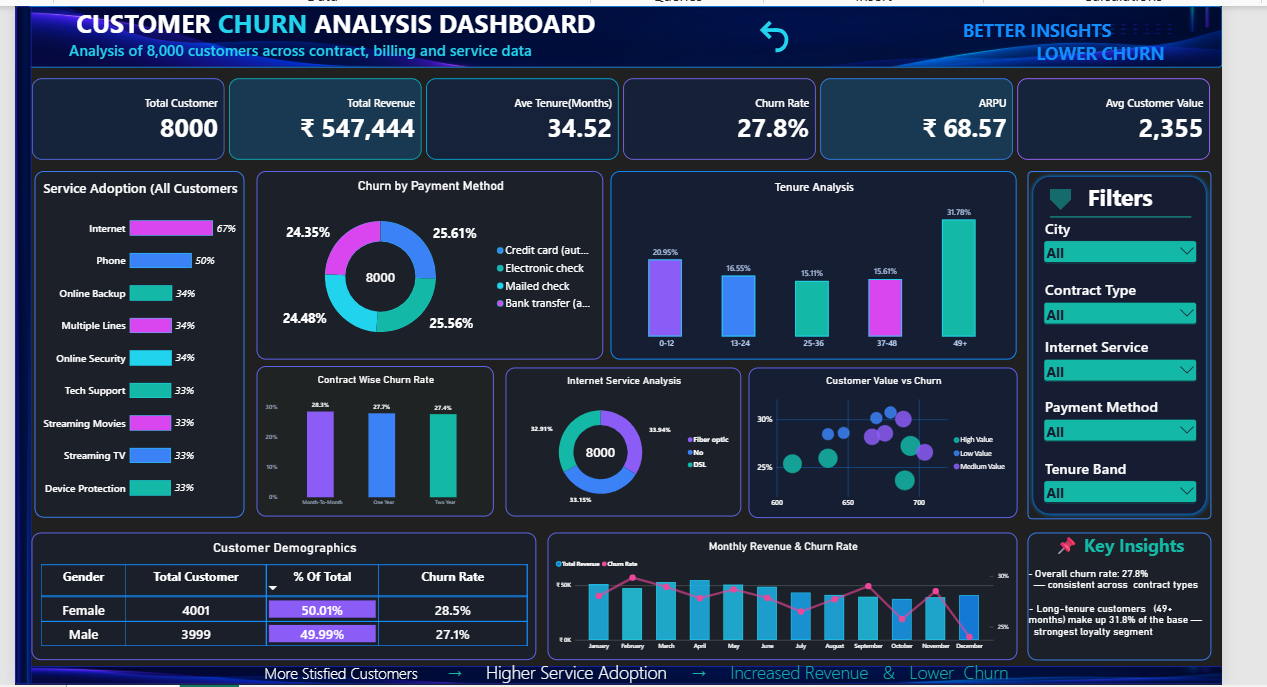

Layout of this report page (visuals, bound fields, positions):
{"tool":"powerbi","page":{"name":"Page 1","canvas":[2560,1440],"ordinal":0},"visuals":[{"type":"image","box":[0,0,2560.9,130.4],"z":0},{"type":"image","box":[0,1400,2561.3,38.7],"z":1000},{"type":"textbox","box":[114.5,0,1250.2,131.2],"z":2000},{"type":"cardVisual","fields":{"Data":["Measures (2).Total Customer","Measures (2).Total Revenue","Measures (2).Ave Tenure","Measures (2).Churn Rate","Measures (2).ARPU","Measures (2).Avg Customer Value"]},"box":[35.5,151.6,2503.2,174.2],"z":3000},{"type":"clusteredColumnChart","title":"Contract Wise Churn Rate","fields":{"Category":["Billing.Contract"],"Y":["Measures (2).Churn Rate"]},"box":[512.9,764.5,503,319.4],"z":4000},{"type":"donutChart","title":"Internet Service Analysis","fields":{"Category":["Service.InternetService"],"Y":["CountNonNull(Service.CustomerID)"]},"box":[1038.7,767.7,500,316.1],"z":5000},{"type":"lineClusteredColumnComboChart","title":"Monthly Revenue & Churn Rate","fields":{"Y":["Measures (2).Total Revenue"],"Y2":["Measures (2).Churn Rate"],"Category":["Demographics.SignupDate.Variation.Date Hierarchy.Month"]},"box":[1129,1116.1,996.8,271],"z":6000},{"type":"donutChart","title":"Churn by Payment Method","fields":{"Y":["CountNonNull(Billing.CustomerID)"],"Category":["Billing.PaymentMethod"]},"box":[512.9,348.4,735.5,400],"z":8000},{"type":"scatterChart","title":"Customer Value vs Churn","fields":{"Y":["Measures (2).Churn Rate"],"Series":["Billing.Customer Segment"],"X":["Measures (2).Total Customer"],"Size":["Measures (2).Total Revenue"],"Category":["Billing.PaymentMethod"]},"box":[1554.8,767.7,571,319.4],"z":9000},{"type":"image","box":[0,0,35.5,1438.7],"z":10000},{"type":"tableEx","title":"Customer Demographics ","fields":{"Values":["Demographics.Gender","Measures (2).Total Customer","Billing.CustomerID","Measures (2).Churn Rate"]},"box":[35.5,1116.1,1071,271],"z":11000},{"type":"clusteredColumnChart","title":"Tenure Analysis","fields":{"Category":["Billing.Tenure Band"],"Y":["Billing.% of Customers"]},"box":[1264.5,348.4,861,400],"z":12000},{"type":"shape","title":"Filter","box":[2148.4,348.4,390.3,738.7],"z":13000},{"type":"slicer","fields":{"Values":["Demographics.City"]},"box":[2177.4,448.4,335.5,100],"z":14000},{"type":"slicer","fields":{"Values":["Billing.Contract"]},"box":[2177.4,577.4,335.5,100],"z":15000},{"type":"slicer","fields":{"Values":["Service.InternetService"]},"box":[2177.4,700,335.5,100],"z":16000},{"type":"slicer","fields":{"Values":["Billing.PaymentMethod"]},"box":[2177.4,825.8,335.5,100],"z":17000},{"type":"slicer","fields":{"Values":["Billing.Tenure Band"]},"box":[2177.4,958.1,335.5,100],"z":18000},{"type":"textbox","box":[2148,1116,390,271],"z":18001},{"type":"clusteredBarChart","title":"Service Adoption (All Customers","fields":{"Category":["Service Adoption.ServiceName"],"Y":["Sum(Service Adoption.AdoptionPercent)"]},"box":[41.9,348.4,445.2,735.5],"z":18002},{"type":"textbox","box":[19.4,1387.1,2541.9,51.6],"z":18003},{"type":"textbox","box":[1841.9,25.8,651.6,103.2],"z":18004},{"type":"actionButton","box":[1538.7,0,141.9,129],"z":18005},{"type":"textbox","box":[2177.4,371,335.5,77.4],"z":18006},{"type":"shape","box":[2193.5,419.4,300,54.8],"z":18007},{"type":"shape","box":[2193.5,387.1,45,45],"z":18008}]}

Visuals, with their boxes in screenshot pixels (x1, y1, x2, y2):
image: BBox(0, 0, 1241, 64)
image: BBox(0, 682, 1241, 686)
textbox: BBox(49, 0, 658, 64)
cardVisual - Measures (2).Total Customer x Measures (2).Total Revenue: BBox(11, 74, 1230, 159)
"Contract Wise Churn Rate" clusteredColumnChart: BBox(243, 373, 488, 528)
"Internet Service Analysis" donutChart: BBox(500, 374, 743, 528)
"Monthly Revenue & Churn Rate" lineClusteredColumnComboChart: BBox(544, 544, 1029, 676)
"Churn by Payment Method" donutChart: BBox(243, 170, 602, 365)
"Customer Value vs Churn" scatterChart: BBox(751, 374, 1029, 530)
image: BBox(0, 0, 11, 686)
"Customer Demographics " tableEx: BBox(11, 544, 533, 676)
"Tenure Analysis" clusteredColumnChart: BBox(610, 170, 1029, 365)
"Filter" shape: BBox(1040, 170, 1230, 530)
slicer - Demographics.City: BBox(1054, 218, 1218, 267)
slicer - Billing.Contract: BBox(1054, 281, 1218, 330)
slicer - Service.InternetService: BBox(1054, 341, 1218, 390)
slicer - Billing.PaymentMethod: BBox(1054, 402, 1218, 451)
slicer - Billing.Tenure Band: BBox(1054, 467, 1218, 516)
textbox: BBox(1040, 544, 1230, 676)
"Service Adoption (All Customers" clusteredBarChart: BBox(14, 170, 231, 528)
textbox: BBox(3, 676, 1241, 686)
textbox: BBox(891, 13, 1208, 63)
actionButton: BBox(743, 0, 812, 63)
textbox: BBox(1054, 181, 1218, 218)
shape: BBox(1062, 204, 1208, 231)
shape: BBox(1062, 189, 1084, 211)
